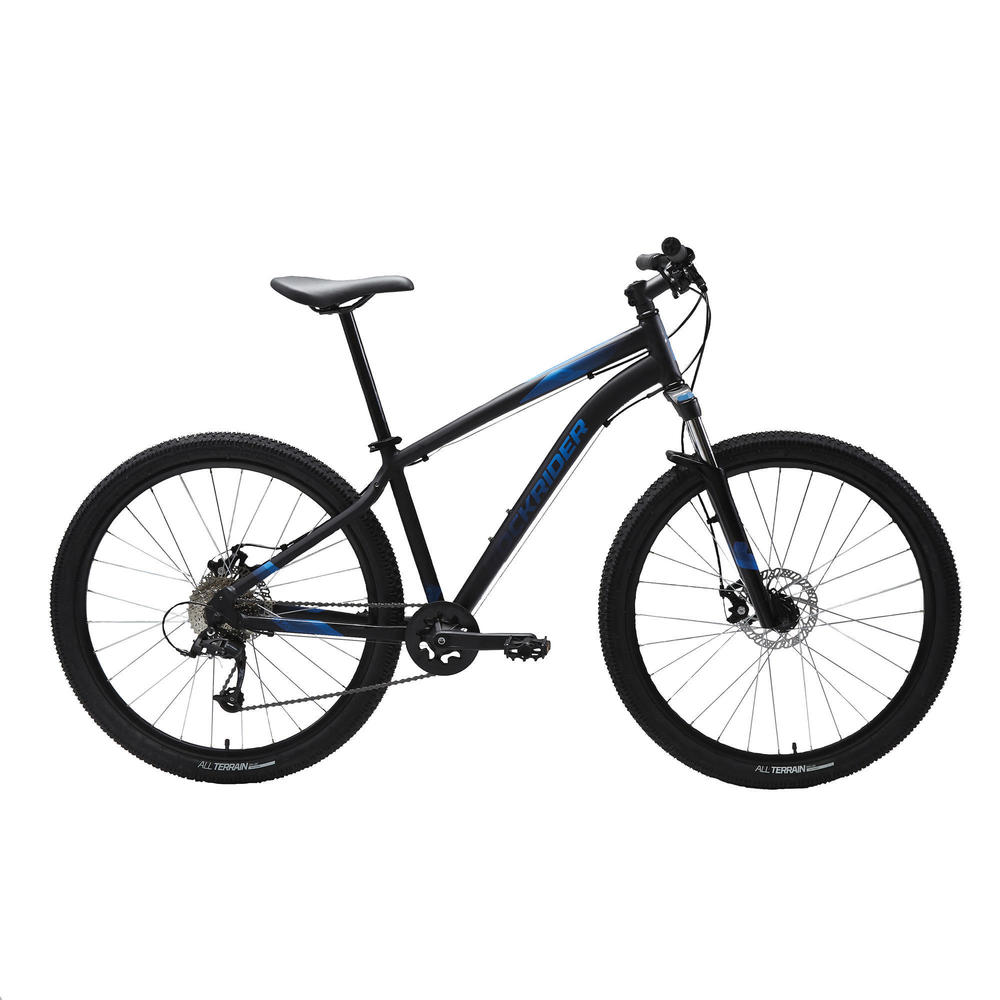MountainBike: (43, 231, 952, 788)
